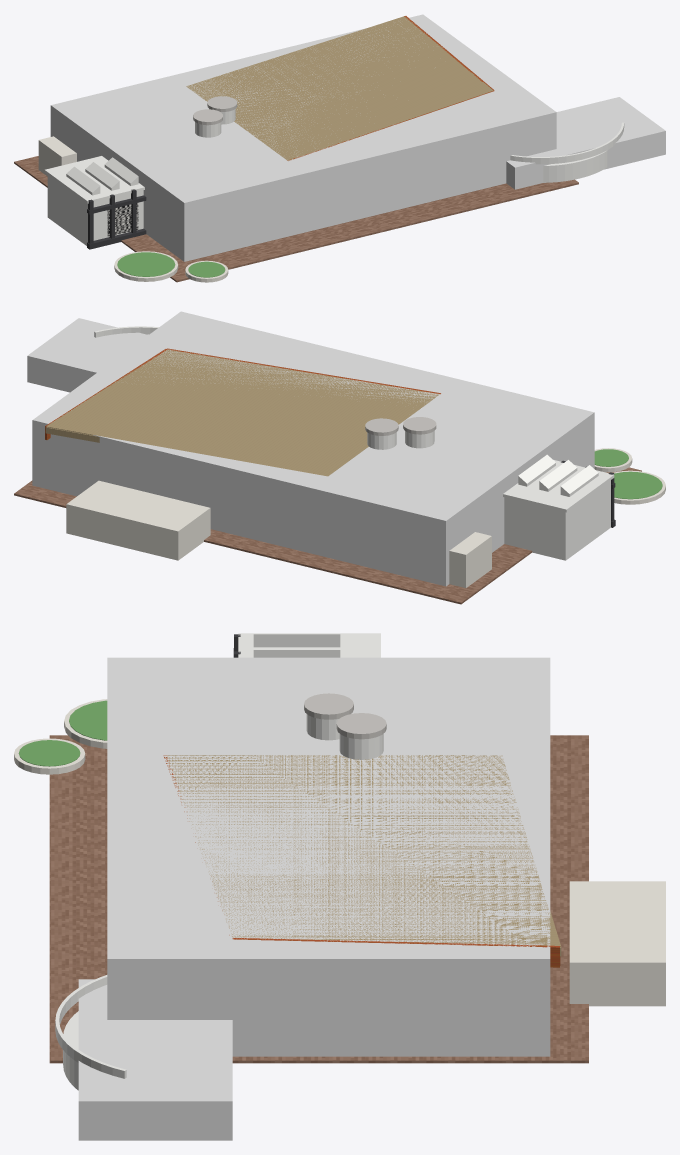
File: AR_StudentUnion.glb
3 views of the same model, one above another, from view 1: azimuth 30°, elevation 25°; view 2: azimuth 150°, elevation 25°; view 3: azimuth 270°, elevation 25° (orthographic). The views are drawn at different scales.
Visible parts, largest first — view 1: COL_footprint, AR_StudentUnion_Hall_Roof_LOD0, AR_StudentUnion_Plaza_LOD0, COL_court, AR_StudentUnion_Wing_Body_LOD0, AR_StudentUnion_Wing_Roof_LOD0, AR_StudentUnion_Court_Tier3_LOD0, AR_StudentUnion_Planter1_Lawn_LOD0, AR_StudentUnion_Rear_Block_A_LOD0, AR_StudentUnion_Court_Balustrade_LOD0, AR_StudentUnion_Wing_Mural1_LOD0, AR_StudentUnion_Planter1_Kerb_LOD0 (+7 smaller); view 2: COL_footprint, AR_StudentUnion_Hall_Roof_LOD0, AR_StudentUnion_Rear_Block_B_LOD0, AR_StudentUnion_Plaza_LOD0, AR_StudentUnion_Wing_Body_LOD0, COL_court, AR_StudentUnion_Wing_Roof_LOD0, AR_StudentUnion_Rear_Block_A_LOD0, AR_StudentUnion_Planter1_Lawn_LOD0, AR_StudentUnion_Wing_Sawtooth1_LOD0, AR_StudentUnion_Wing_Sawtooth2_LOD0, AR_StudentUnion_Wing_Sawtooth3_LOD0 (+6 smaller); view 3: COL_footprint, AR_StudentUnion_Hall_Roof_LOD0, AR_StudentUnion_Plaza_LOD0, COL_court, AR_StudentUnion_Rear_Block_B_LOD0, AR_StudentUnion_Wing_Roof_LOD0, AR_StudentUnion_Court_Balustrade_LOD0, AR_StudentUnion_Planter2_Lawn_LOD0, AR_StudentUnion_Wing_Sawtooth1_LOD0, AR_StudentUnion_Planter1_Lawn_LOD0, AR_StudentUnion_Core2_Cap_LOD0, AR_StudentUnion_Core1_Cap_LOD0 (+4 smaller).
Boxes of the visible parts, <box> form: COL_footprint: <box>50,14,556,261</box>; AR_StudentUnion_Hall_Roof_LOD0: <box>186,16,493,160</box>; AR_StudentUnion_Plaza_LOD0: <box>14,156,578,282</box>; COL_court: <box>506,97,665,189</box>; AR_StudentUnion_Wing_Body_LOD0: <box>47,175,143,245</box>; AR_StudentUnion_Wing_Roof_LOD0: <box>44,156,144,203</box>; AR_StudentUnion_Court_Tier3_LOD0: <box>543,150,607,182</box>; AR_StudentUnion_Planter1_Lawn_LOD0: <box>117,252,175,276</box>; AR_StudentUnion_Rear_Block_A_LOD0: <box>38,136,76,176</box>; AR_StudentUnion_Court_Balustrade_LOD0: <box>510,122,624,164</box>; AR_StudentUnion_Wing_Mural1_LOD0: <box>107,203,138,236</box>; AR_StudentUnion_Planter1_Kerb_LOD0: <box>114,251,178,281</box>; COL_footprint: <box>32,311,594,586</box>; AR_StudentUnion_Hall_Roof_LOD0: <box>46,349,438,476</box>; AR_StudentUnion_Rear_Block_B_LOD0: <box>66,480,210,560</box>; AR_StudentUnion_Plaza_LOD0: <box>14,467,641,604</box>; AR_StudentUnion_Wing_Body_LOD0: <box>504,480,610,560</box>; COL_court: <box>27,318,148,392</box>; AR_StudentUnion_Wing_Roof_LOD0: <box>503,459,614,512</box>; AR_StudentUnion_Rear_Block_A_LOD0: <box>449,532,491,587</box>; AR_StudentUnion_Planter1_Lawn_LOD0: <box>614,471,662,499</box>; AR_StudentUnion_Wing_Sawtooth1_LOD0: <box>560,465,598,496</box>; AR_StudentUnion_Wing_Sawtooth2_LOD0: <box>539,460,577,491</box>; AR_StudentUnion_Wing_Sawtooth3_LOD0: <box>518,454,555,486</box>; COL_footprint: <box>107,657,550,1056</box>; AR_StudentUnion_Hall_Roof_LOD0: <box>166,755,559,945</box>; AR_StudentUnion_Plaza_LOD0: <box>49,735,588,1063</box>; COL_court: <box>78,979,232,1140</box>; AR_StudentUnion_Rear_Block_B_LOD0: <box>569,881,665,1006</box>; AR_StudentUnion_Wing_Roof_LOD0: <box>238,633,380,657</box>; AR_StudentUnion_Court_Balustrade_LOD0: <box>55,975,126,1078</box>; AR_StudentUnion_Planter2_Lawn_LOD0: <box>18,740,80,766</box>; AR_StudentUnion_Wing_Sawtooth1_LOD0: <box>253,634,340,647</box>; AR_StudentUnion_Planter1_Lawn_LOD0: <box>69,700,107,740</box>; AR_StudentUnion_Core2_Cap_LOD0: <box>336,713,386,739</box>; AR_StudentUnion_Core1_Cap_LOD0: <box>304,693,353,719</box>.
Bounding box in the file's own units: 106 × 14.6 × 67.7.
Materials: 11 (4 with a texture image).
